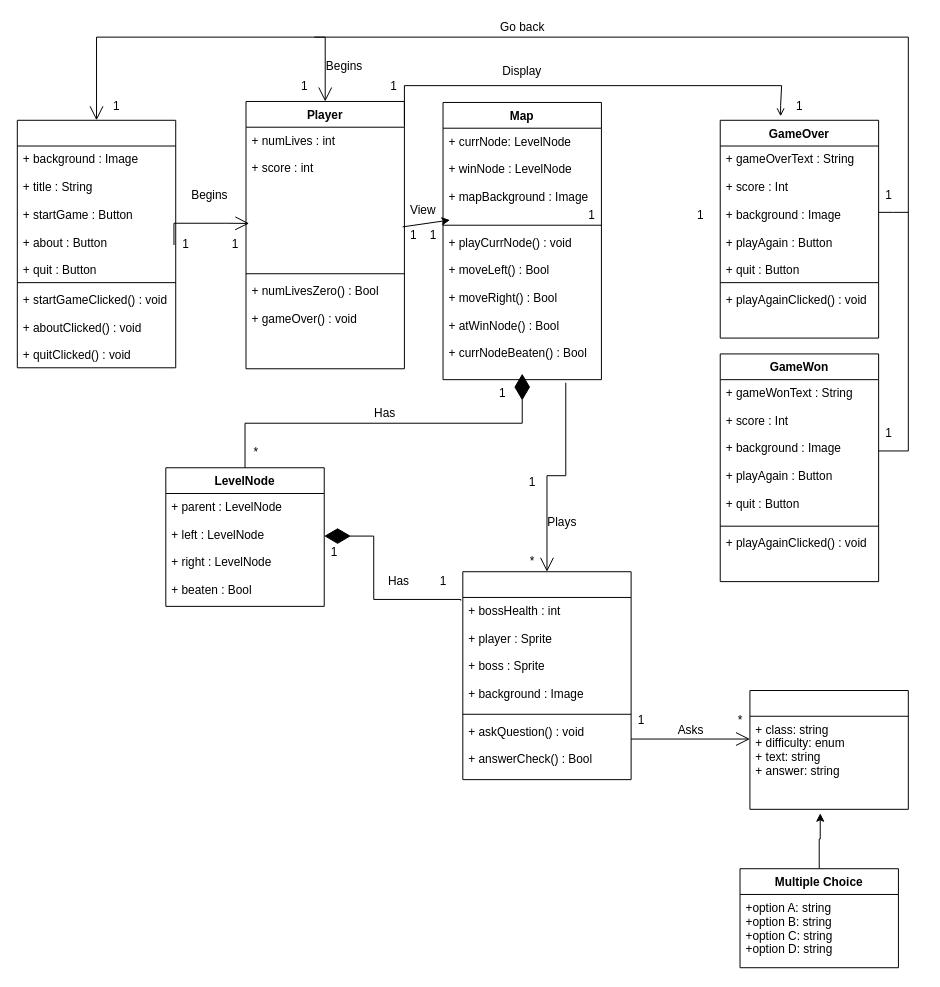
This 940x987 diagram has some shape labels left out. The shapes that lost their labels are listed below. From the top down, each one's box as (x1, y1, x2, y2) in pixels, then its label:
(16, 119, 176, 368): MainMenu
(462, 571, 631, 780): Level
(749, 690, 908, 809): Question
